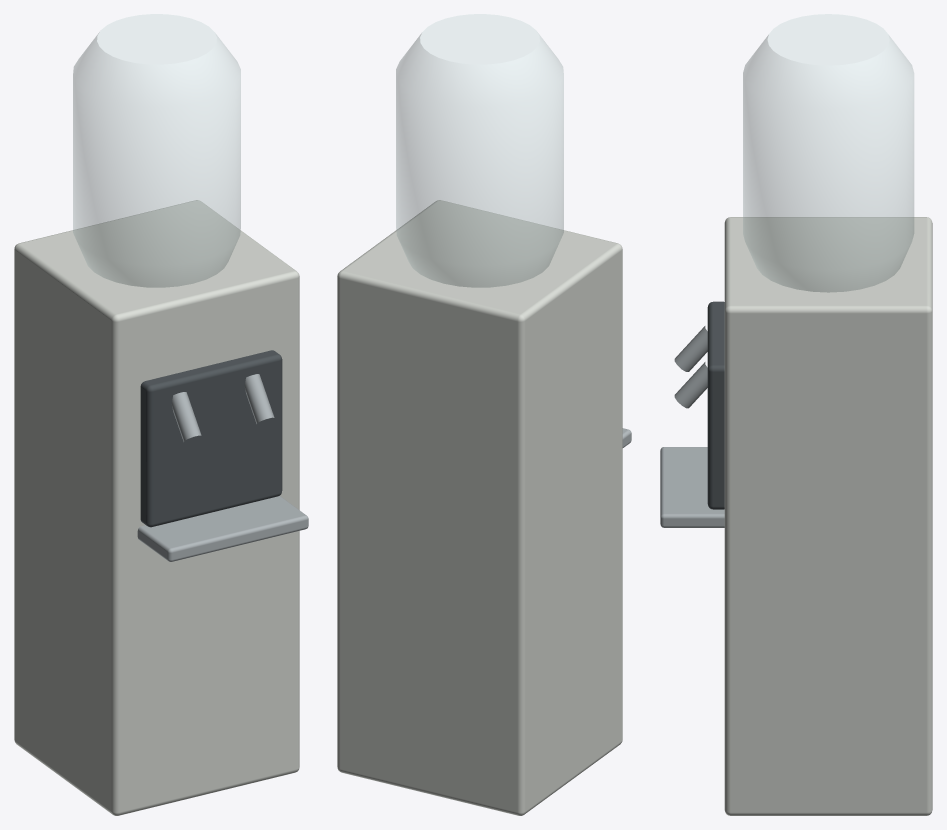
The model's file is liminal-spaces-kit-water-cooler-03a51f22__25249.glb.
3 views of the same model, side by side, from view 1: azimuth 30°, elevation 25°; view 2: azimuth 150°, elevation 25°; view 3: azimuth 270°, elevation 25° (orthographic).
Parts seen in each view (by area): view 1: water-cooler; view 2: water-cooler; view 3: water-cooler.
Boxes of the visible parts, <box> form: water-cooler: <box>14,14,308,815</box>; water-cooler: <box>337,14,631,815</box>; water-cooler: <box>660,14,932,815</box>.
Bounding box in the file's own units: 0.36 × 1.32 × 0.445.
